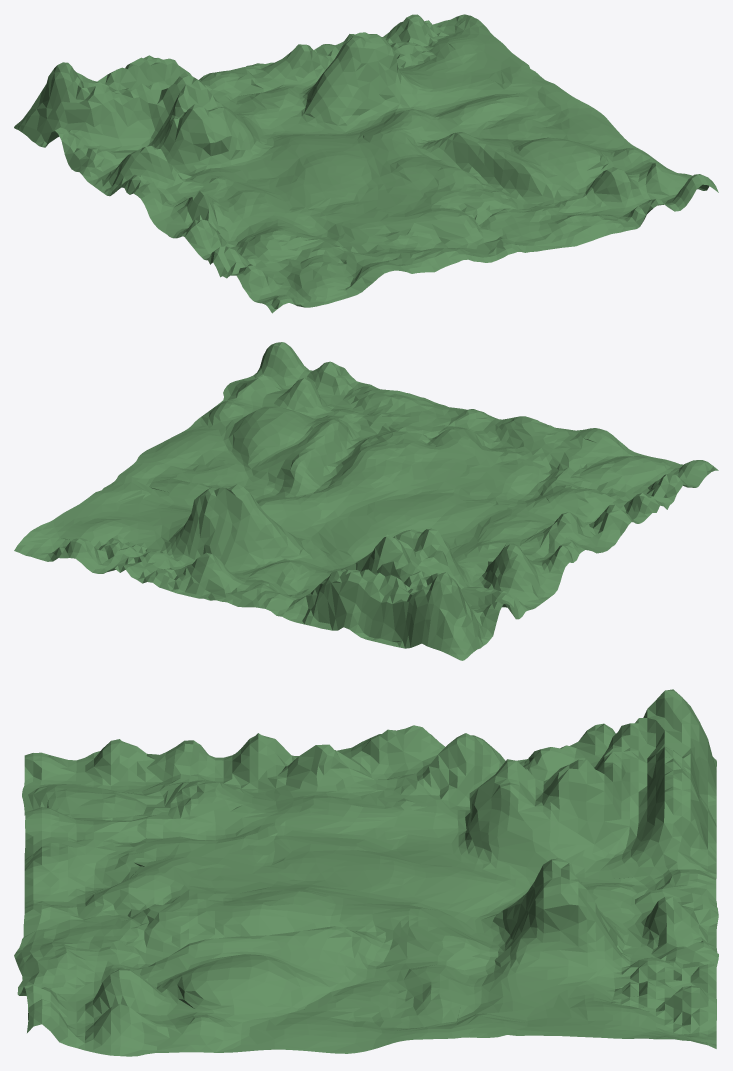
File: Terreno.fbx
The picture shows the model from 3 angles, top to bottom: view 1: azimuth 30°, elevation 25°; view 2: azimuth 150°, elevation 25°; view 3: azimuth 270°, elevation 25°; orthographic projection. The views are drawn at different scales.
Parts seen in each view (by area): view 1: pPlane2; view 2: pPlane2; view 3: pPlane2.
Part boxes in pixels (bbox=[...]): pPlane2: bbox=[14, 14, 718, 313]; pPlane2: bbox=[14, 342, 718, 660]; pPlane2: bbox=[14, 689, 718, 1056].
Size of the model in its own units: 98.64 by 14.65 by 97.8.
